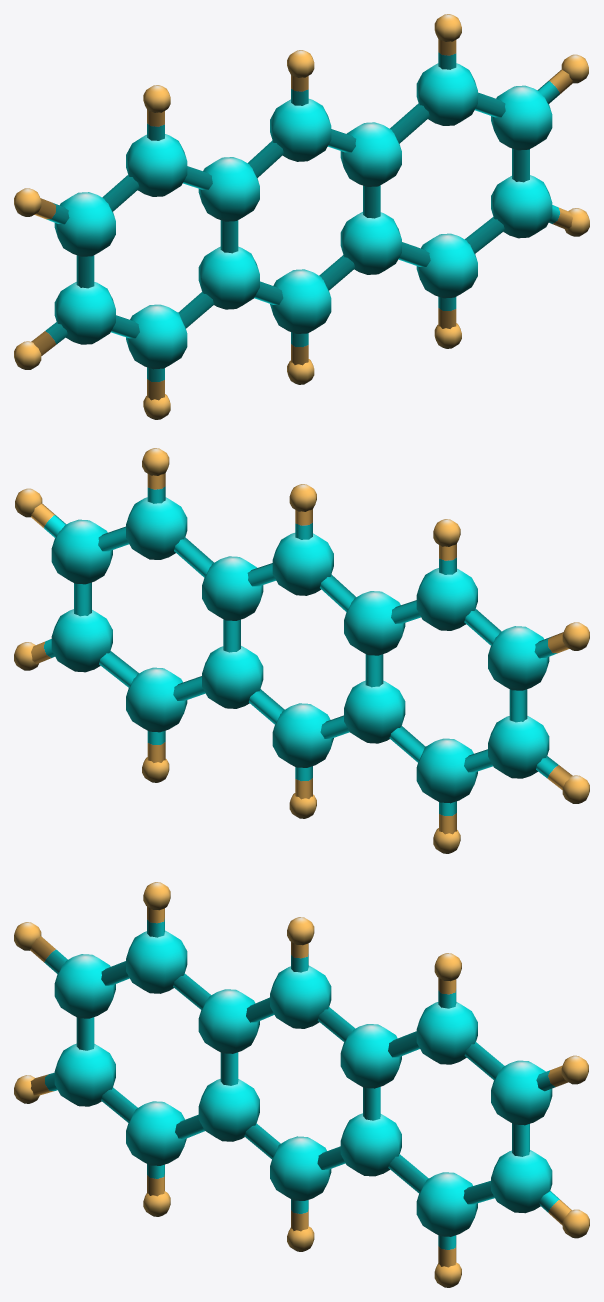
Rendered from Antrancene.dae.
3 views of the same model, one above another, from view 1: azimuth 30°, elevation 25°; view 2: azimuth 150°, elevation 25°; view 3: azimuth 330°, elevation 25° (orthographic).
Visible parts, largest first — view 1: polySurface1; view 2: polySurface1; view 3: polySurface1.
Boxes of the visible parts, x1=… form: polySurface1: x1=14, y1=14, x2=589, y2=419; polySurface1: x1=14, y1=448, x2=589, y2=853; polySurface1: x1=14, y1=882, x2=589, y2=1287.
Size of the model in its own units: 7.39 by 4.09 by 0.7088.
1 material, 1 textured.
